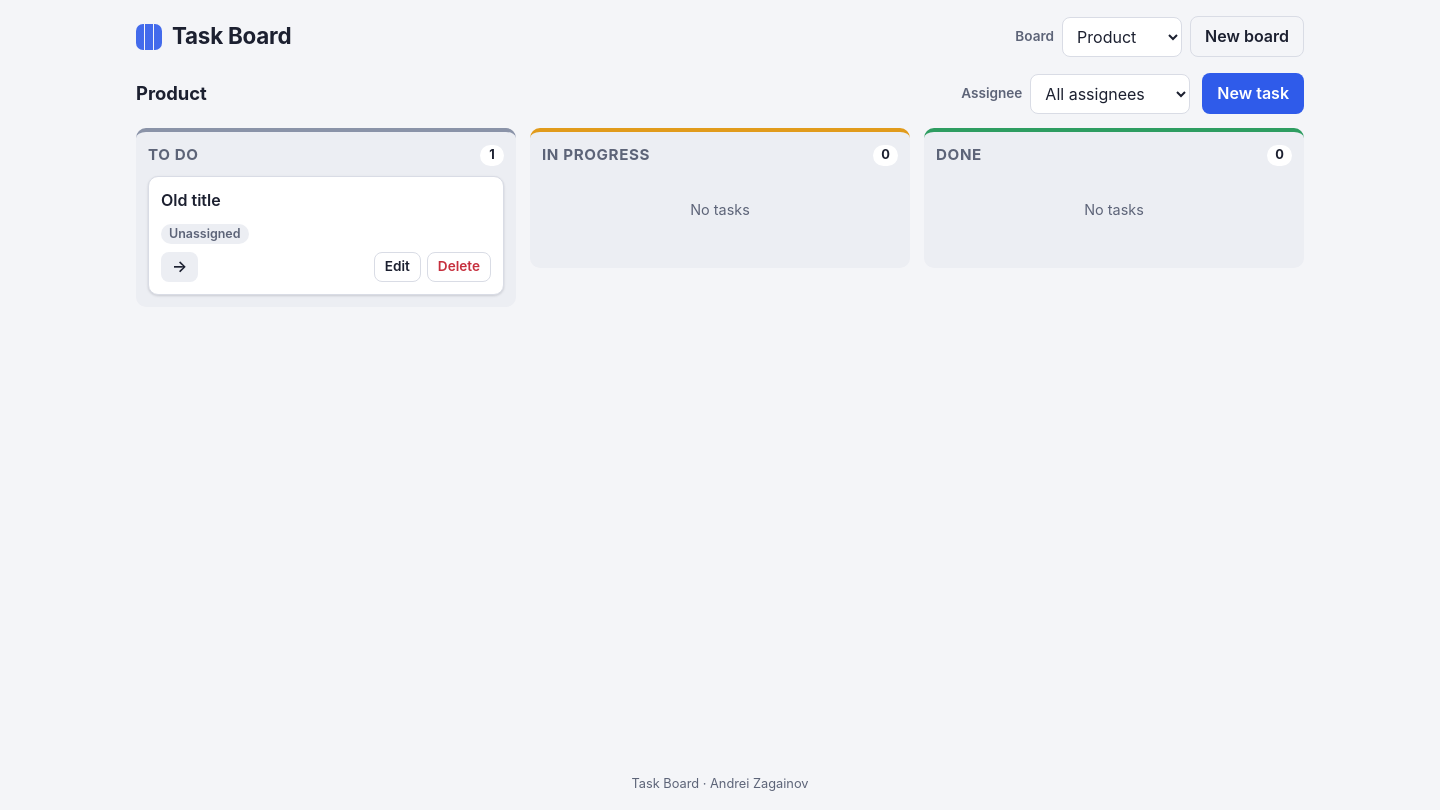
Test: App › edits a task
Click the button named "Edit \"Old title\"": x=397, y=267 [374,252,421,282]
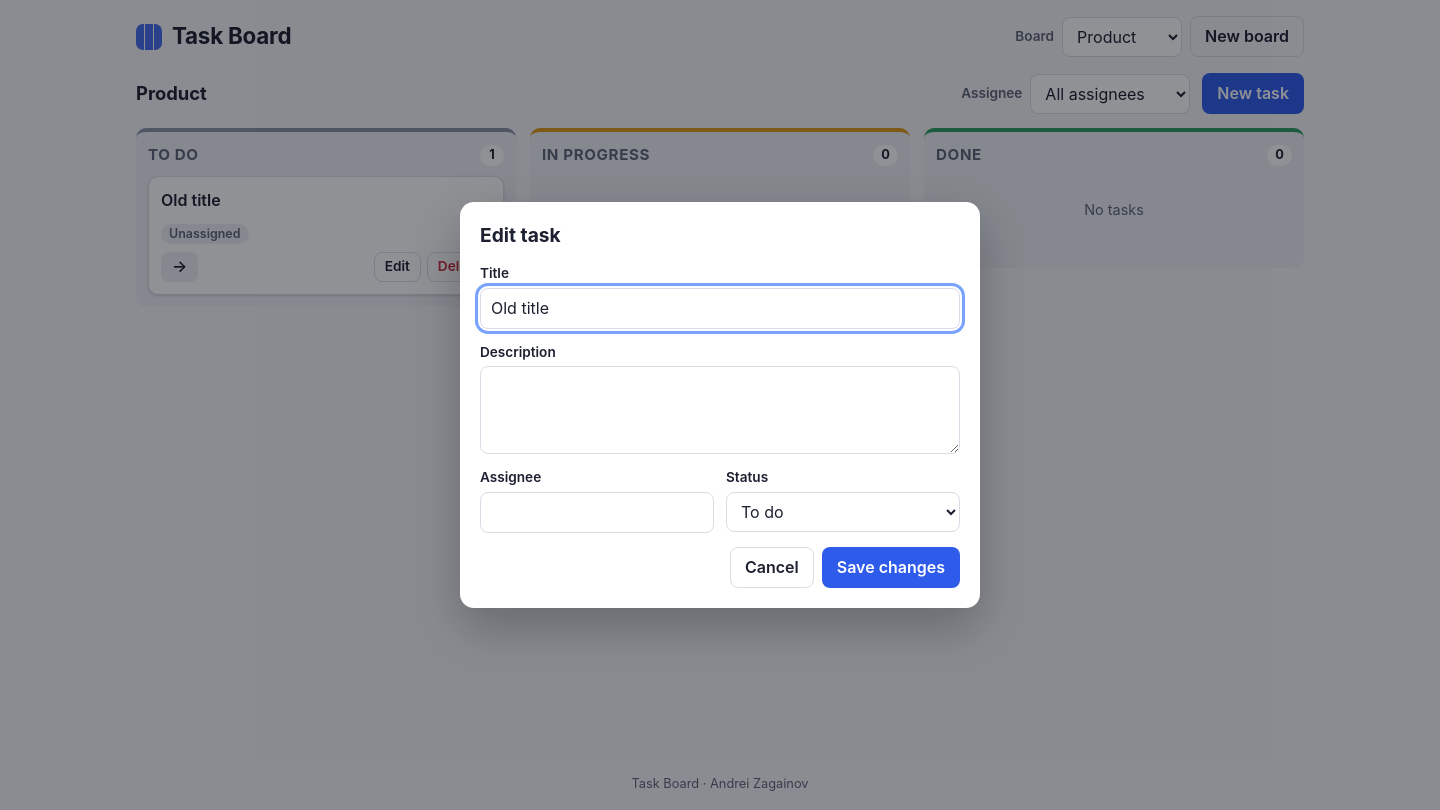
Replace the text in the field labelled "Title" with "New title": x=720, y=308 [480,288,960,329]
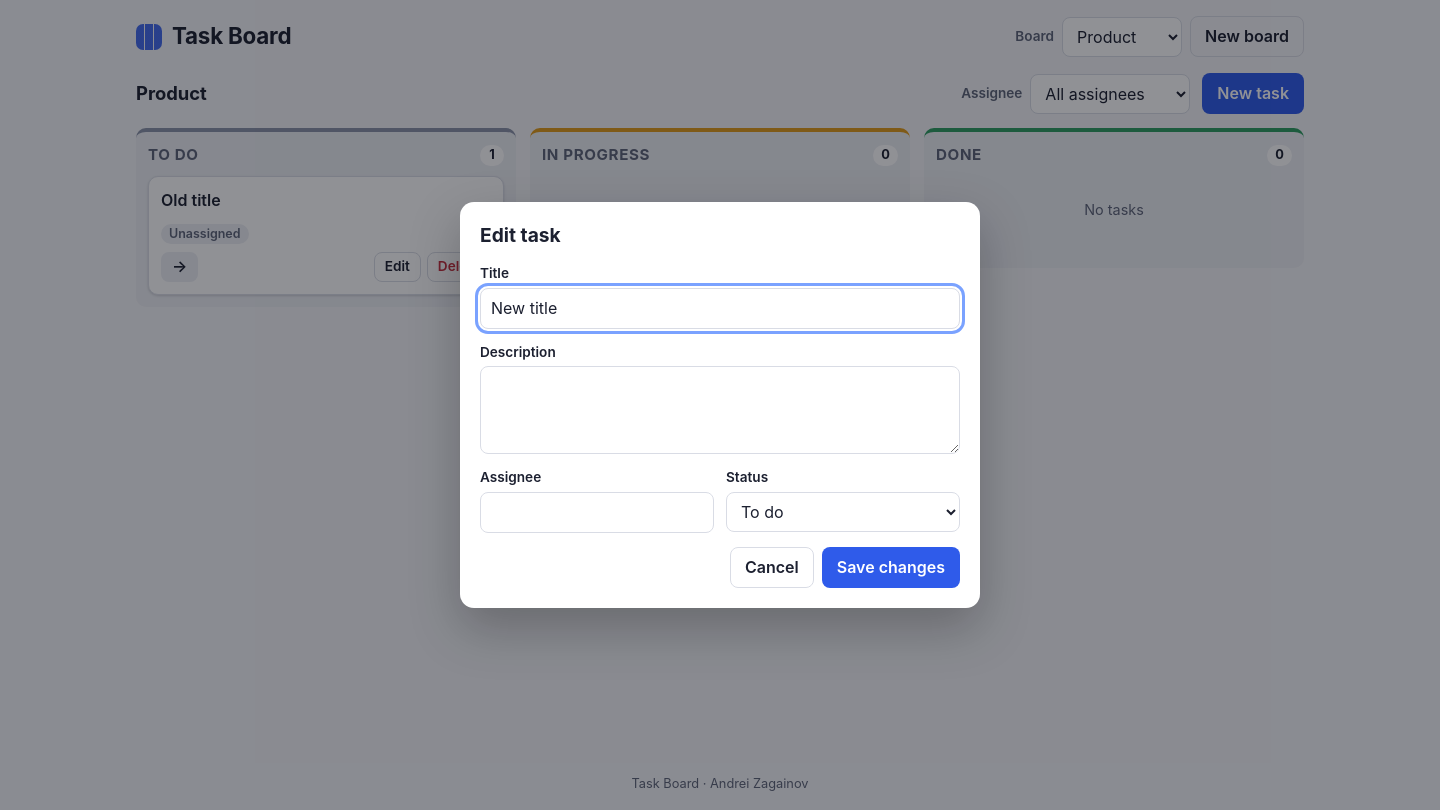
Click the button "Save changes": x=891, y=567 [822,547,960,588]
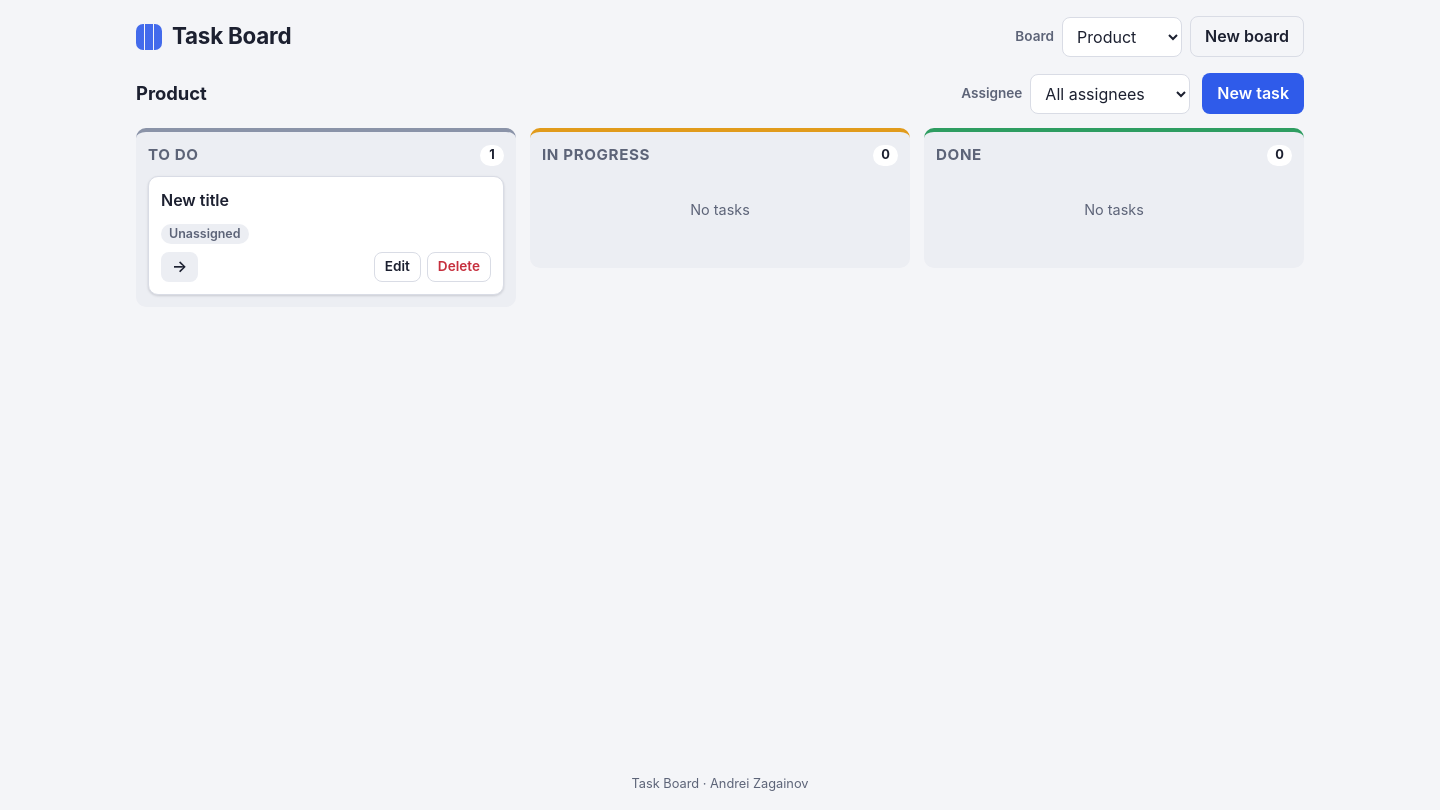
Now the heading "New title" is shown, box [161,190,229,210]
